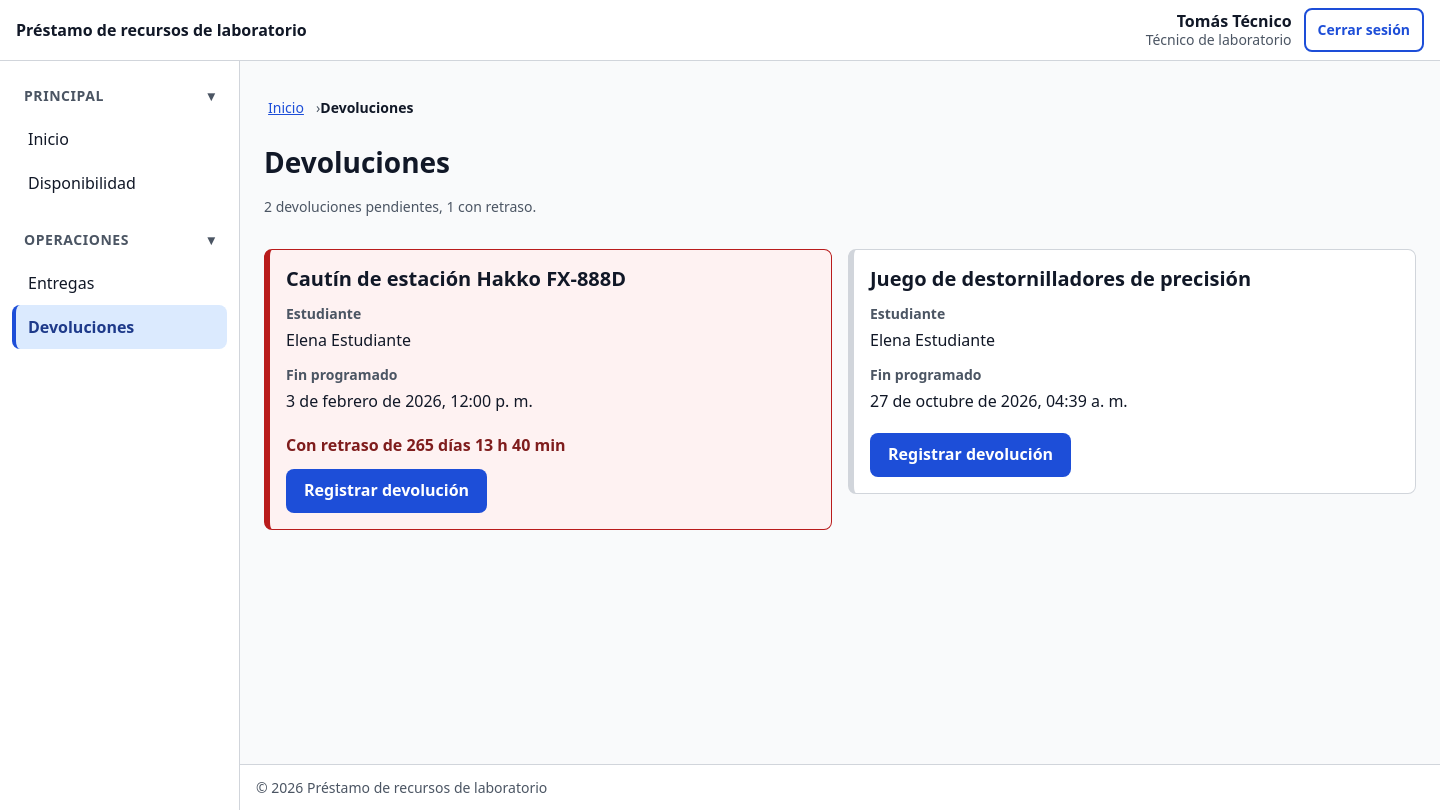
Scenario: devoluciones pendientes (Req 13) › una devolución a tiempo lo indica en la confirmación
This screenshot has width=1440, height=810.
Click the button with aria-label "Registrar devolución: Juego de destornilladores": x=971, y=455 [870,433,1071,477]
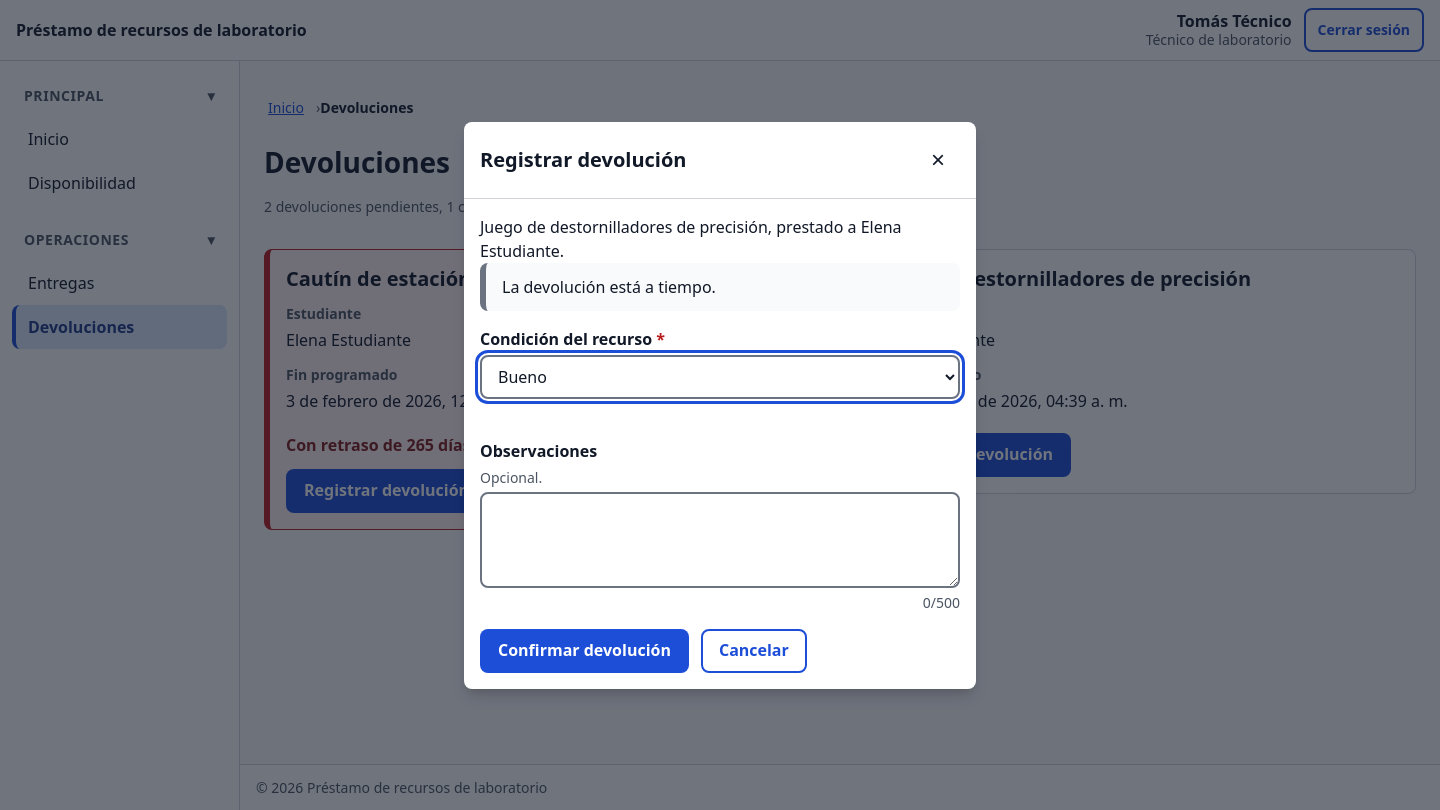
Click the button "Confirmar devolución": x=584, y=650 [480,628,689,672]
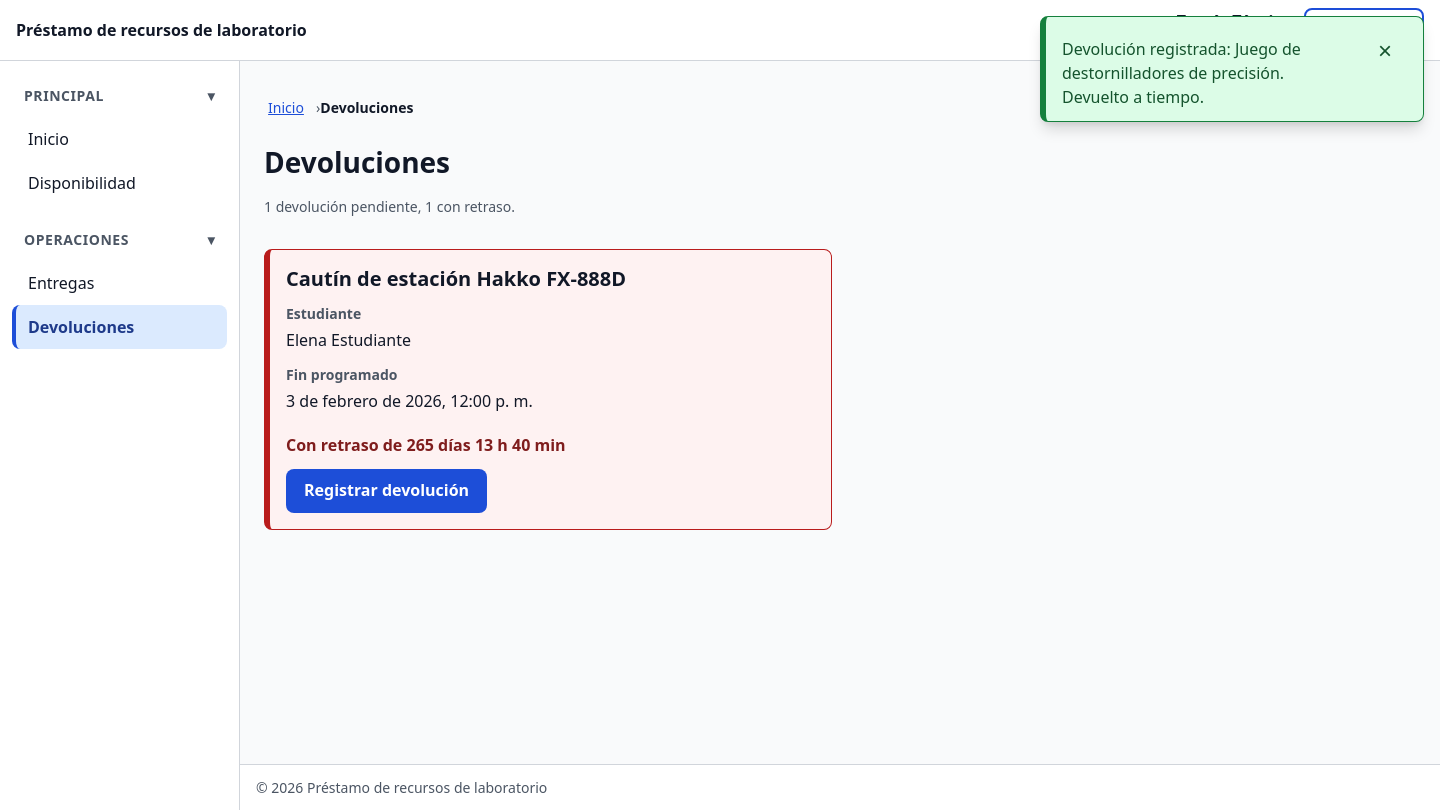
Now the text "Devuelto a tiempo." is shown, box [1062,38,1301,108]
